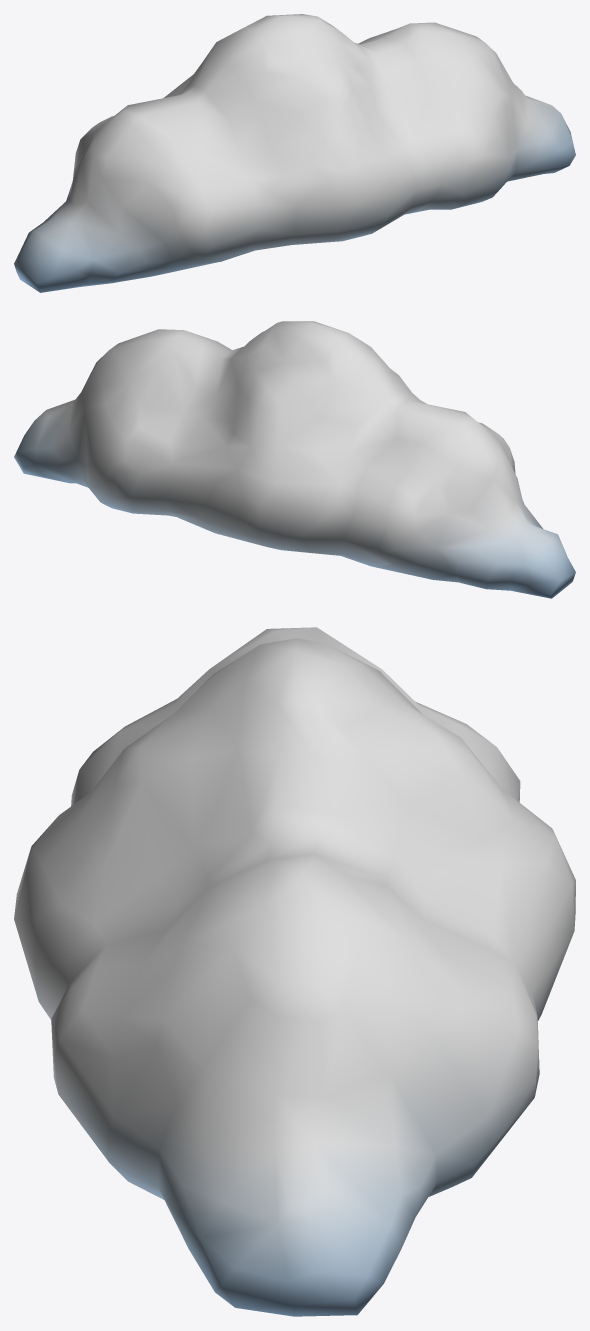
Rendered from cloud1.glb.
3 views of the same model, one above another, from view 1: azimuth 30°, elevation 25°; view 2: azimuth 150°, elevation 25°; view 3: azimuth 270°, elevation 25° (orthographic). The views are drawn at different scales.
Parts seen in each view (by area): view 1: cloud1; view 2: cloud1; view 3: cloud1.
Part boxes in pixels (<box>): cloud1: <box>14,14,575,292</box>; cloud1: <box>14,321,575,598</box>; cloud1: <box>14,627,575,1316</box>.
Size of the model in its own units: 1.92 by 0.7194 by 0.8792.
